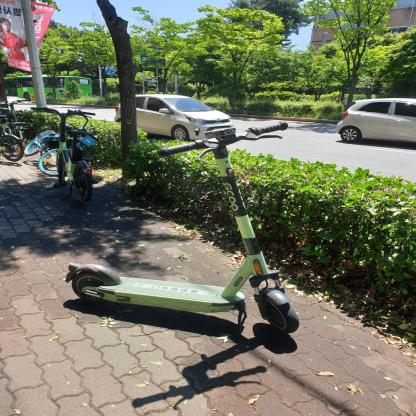kickboard: (49, 123, 315, 343)
